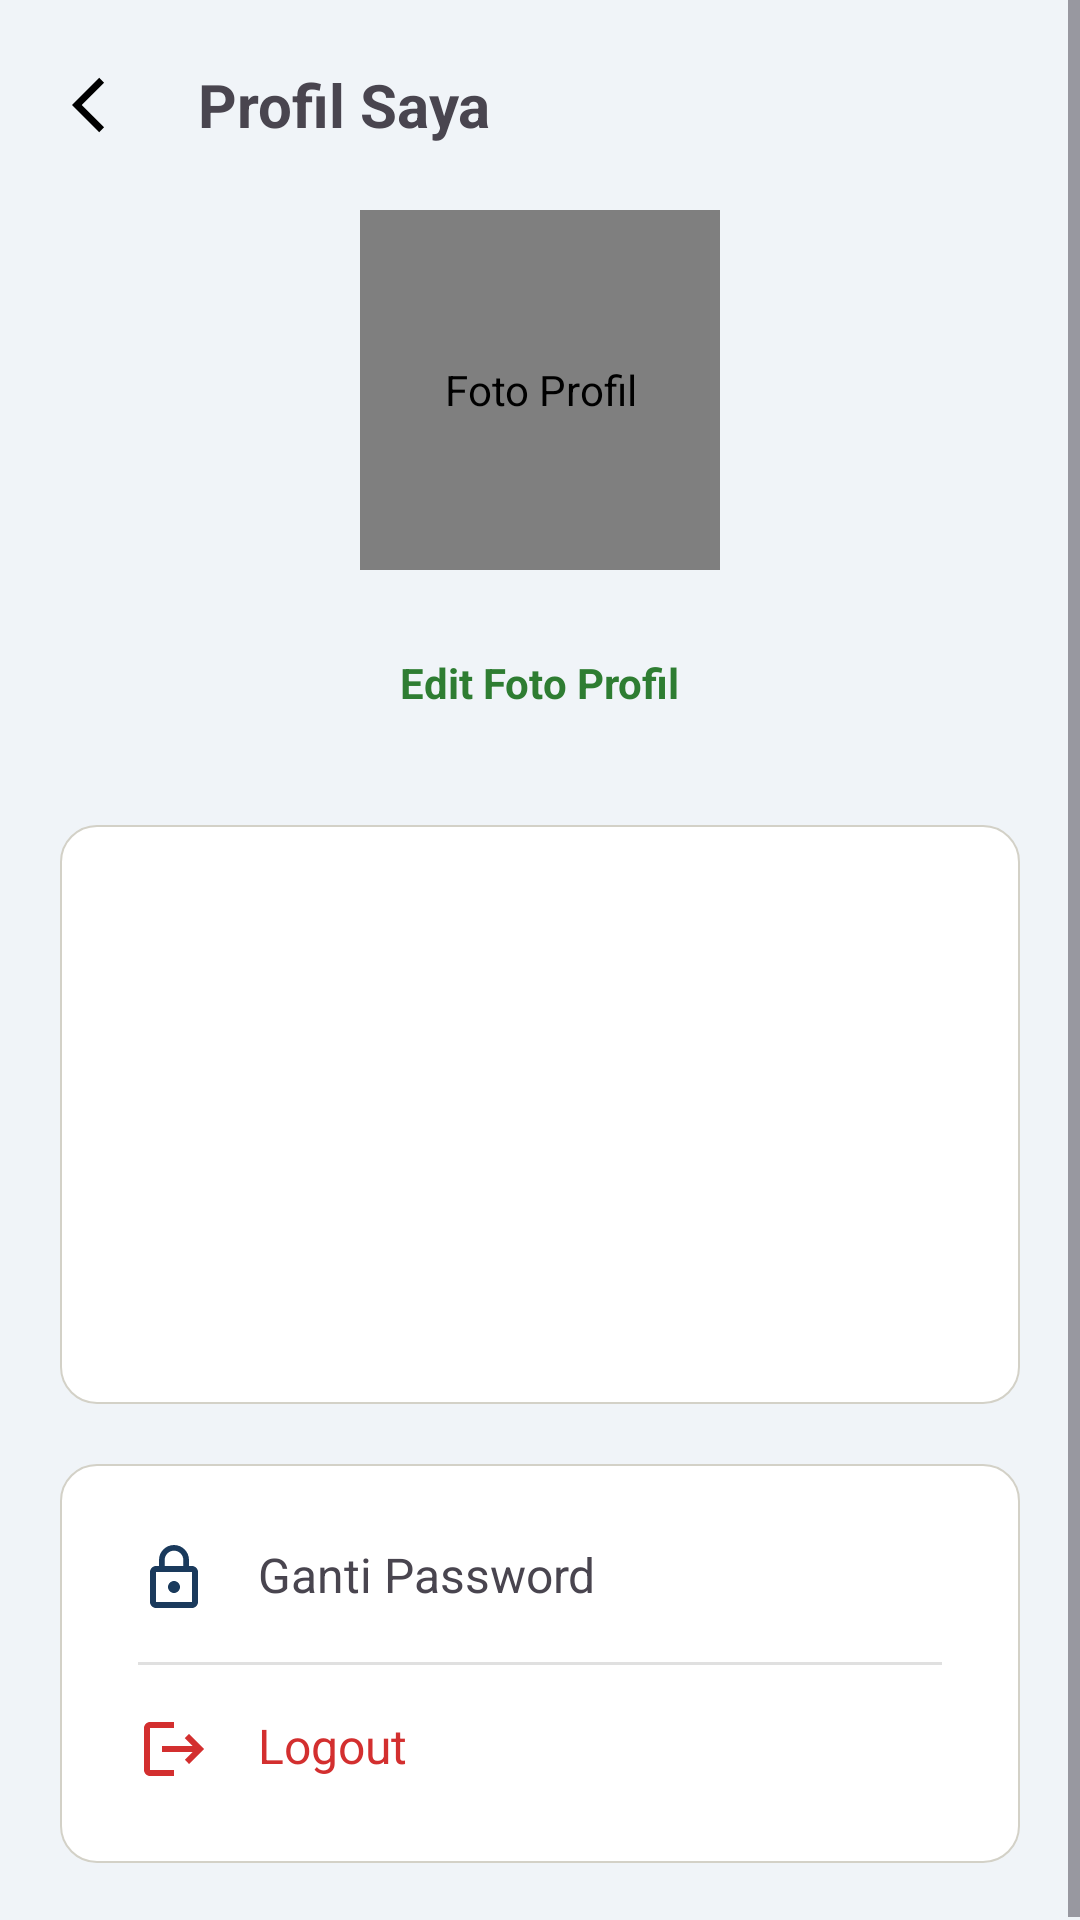

Icon bounding boxes for this 1080 × 1920 phone screenshot, format (x1, y1, x2, y2):
Kembali: (72, 78, 104, 132)
